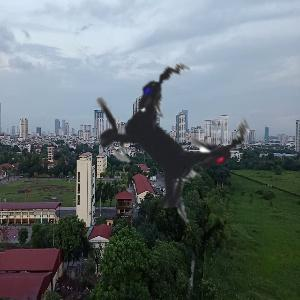drone: (24, 3, 299, 278)
